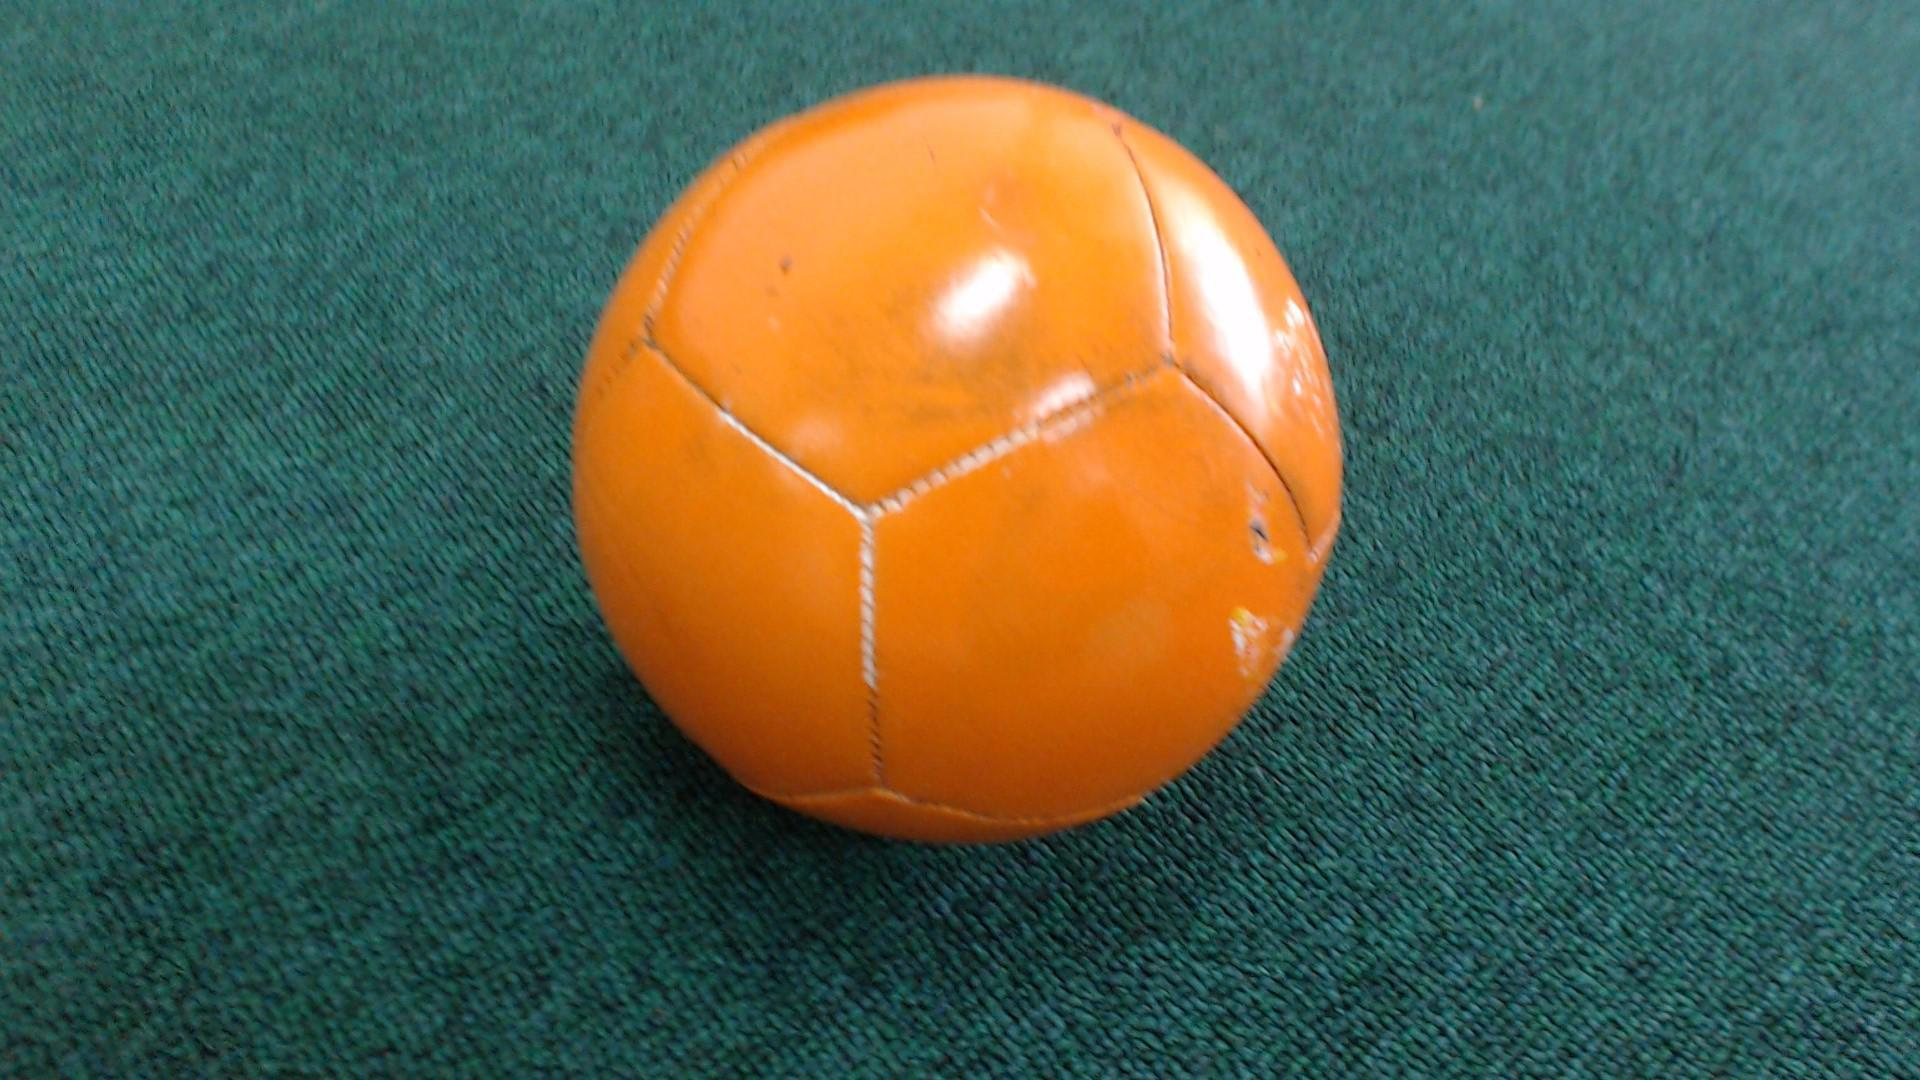bola: (529, 54, 1360, 893)
